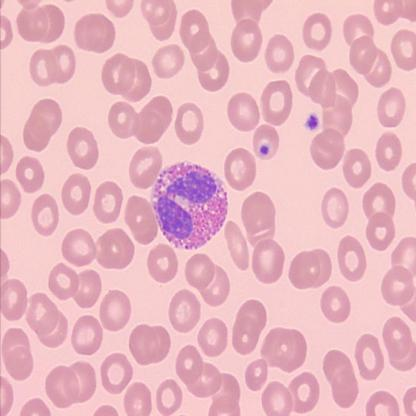Eosinophil: (152, 160, 230, 251)
